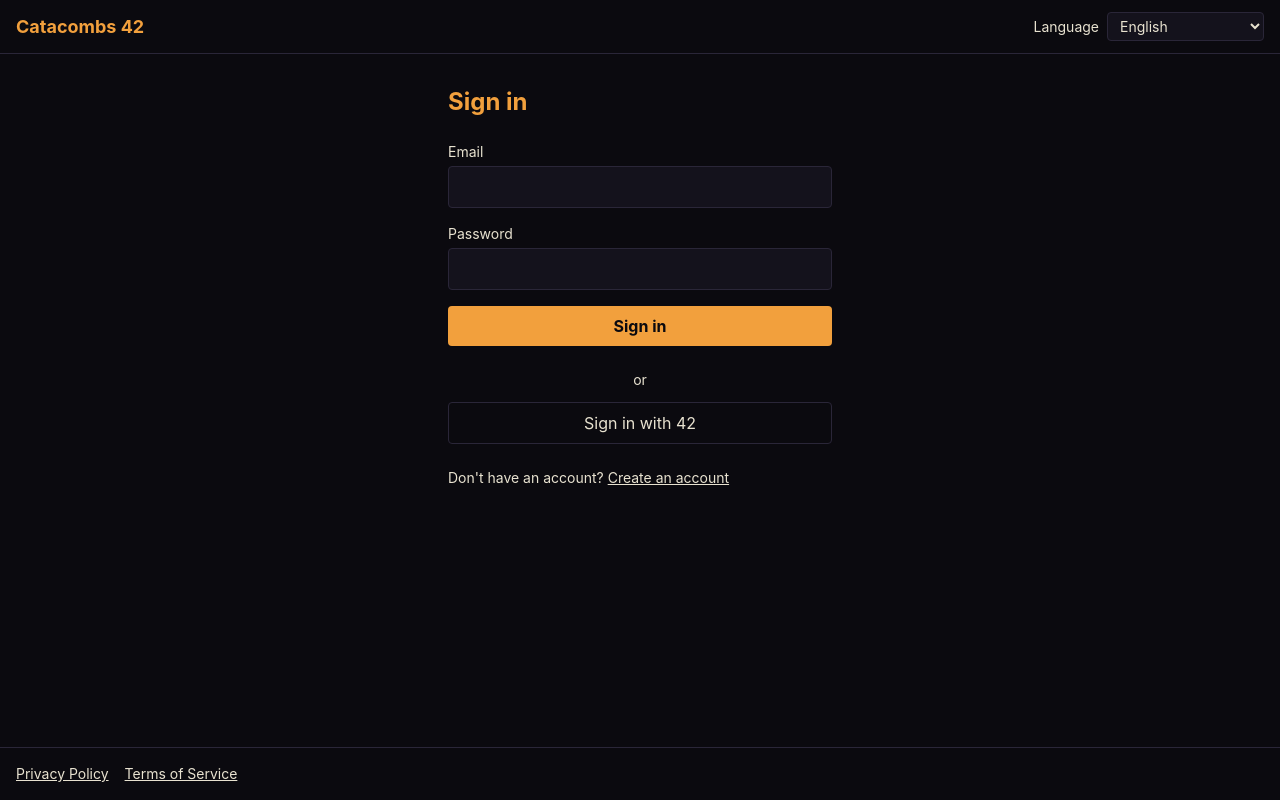
Test: Login: envio › 422 sem campo desta tela: cai no erro geral
Expected: the heading "Sign in" is shown, x1=448 y1=87 x2=528 y2=116
Type "ana@x.com" into the field labelled "Email" at x=640, y=187, box x1=448 y1=166 x2=832 y2=208
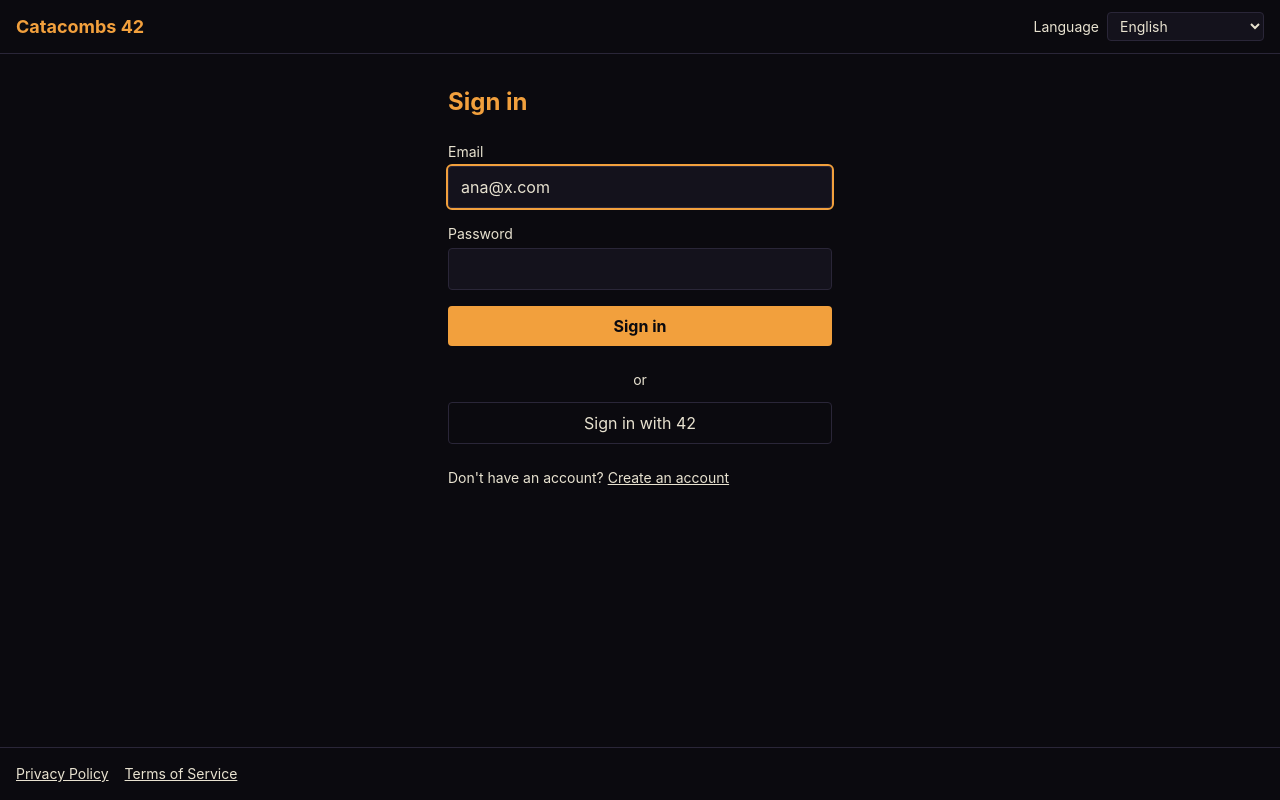
Type "x" into the password field labelled "Password" at x=640, y=269, box x1=448 y1=248 x2=832 y2=290
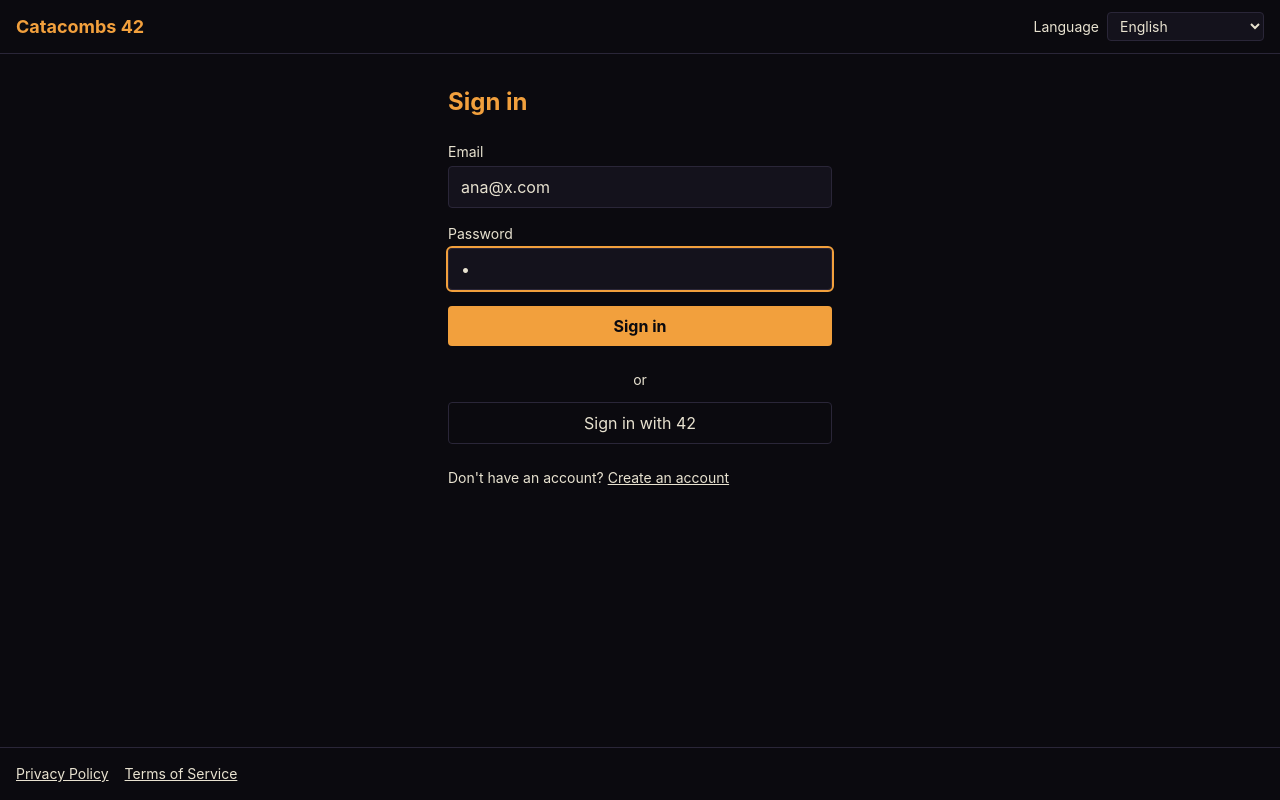
Click the button "Sign in" at x=640, y=326, box x1=448 y1=306 x2=832 y2=346
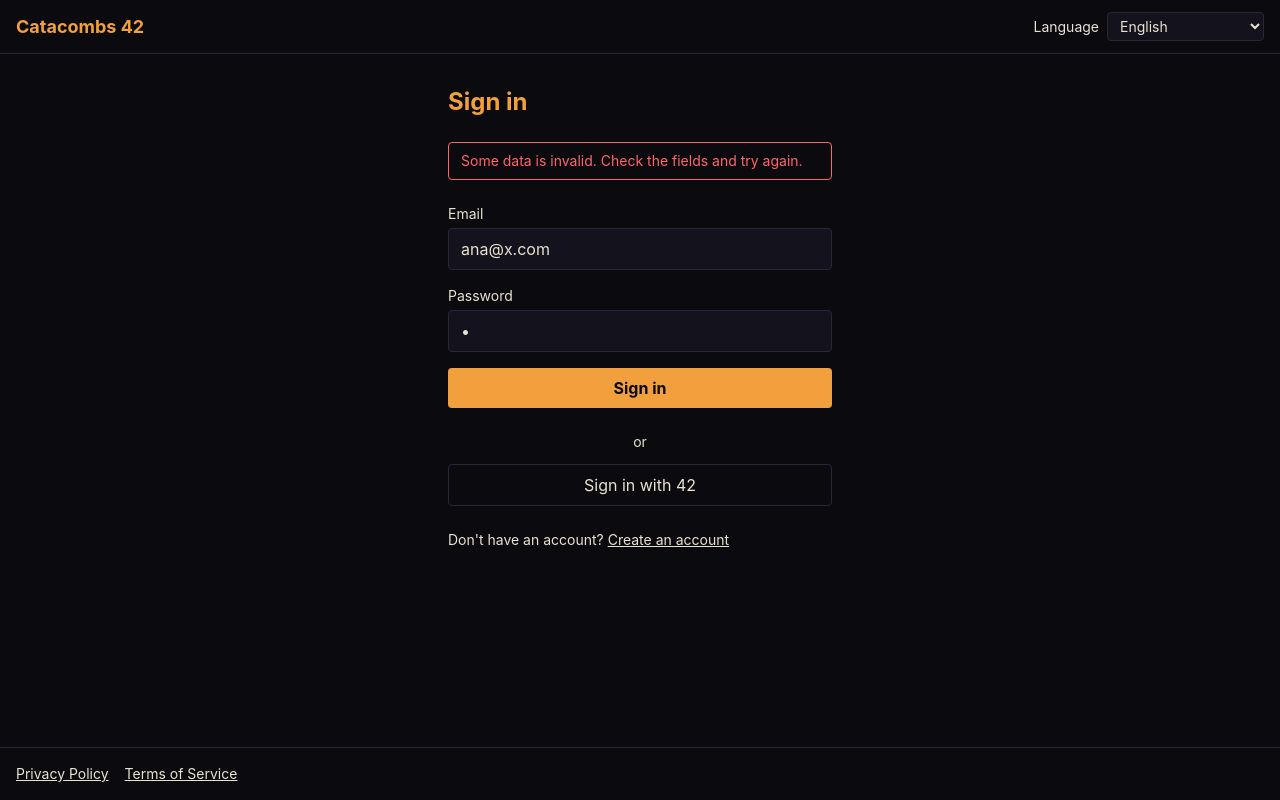
Expected: the message shows "Some data is invalid.", x1=461 y1=152 x2=803 y2=169
